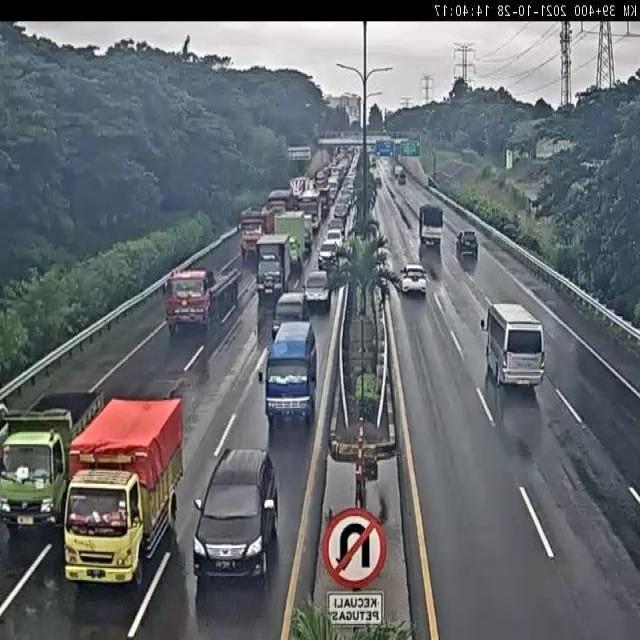Car: (193, 445, 279, 580), (304, 269, 334, 315), (318, 228, 344, 268), (399, 263, 428, 297), (328, 255, 352, 292), (456, 230, 478, 257), (375, 247, 393, 277), (314, 169, 330, 197), (343, 180, 357, 208), (302, 212, 314, 244), (326, 218, 343, 239), (329, 166, 341, 187), (394, 166, 404, 181)
Truck: (64, 396, 184, 576), (0, 392, 104, 531), (156, 256, 232, 342), (255, 232, 296, 305), (238, 209, 268, 262), (418, 204, 444, 248)
Van: (256, 315, 323, 437), (483, 301, 544, 386)
